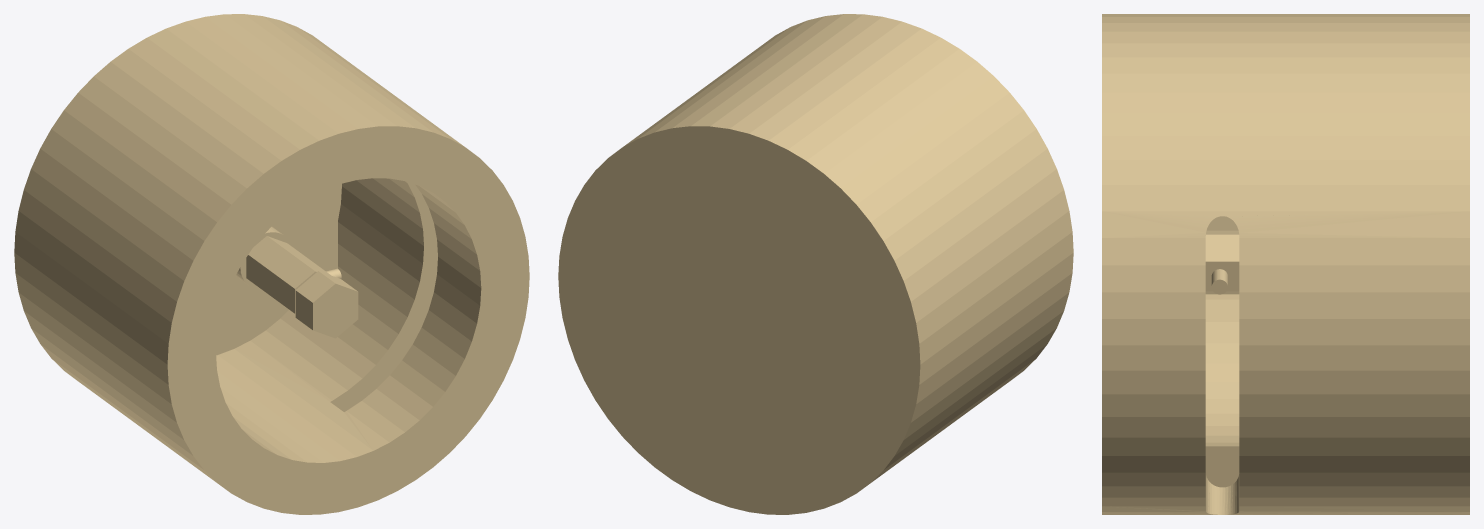
Rendered from turntable_base_with_texture.dae.
The picture shows the model from 3 angles, left to right: view 1: azimuth 30°, elevation 25°; view 2: azimuth 150°, elevation 25°; view 3: azimuth 270°, elevation 25°; orthographic projection. The views are drawn at different scales.
Visible parts, largest first — view 1: SketchUp (×4); view 2: SketchUp; view 3: SketchUp (×2).
Boxes of the visible parts, x1,y1,x2,y2 form: SketchUp (×4): (14,14,529,514); SketchUp: (558,14,1073,514); SketchUp (×2): (1102,14,1469,514).
Bounding box in the file's own units: 5891 × 4319 × 5882.
Materials: 1 (1 with a texture image).
